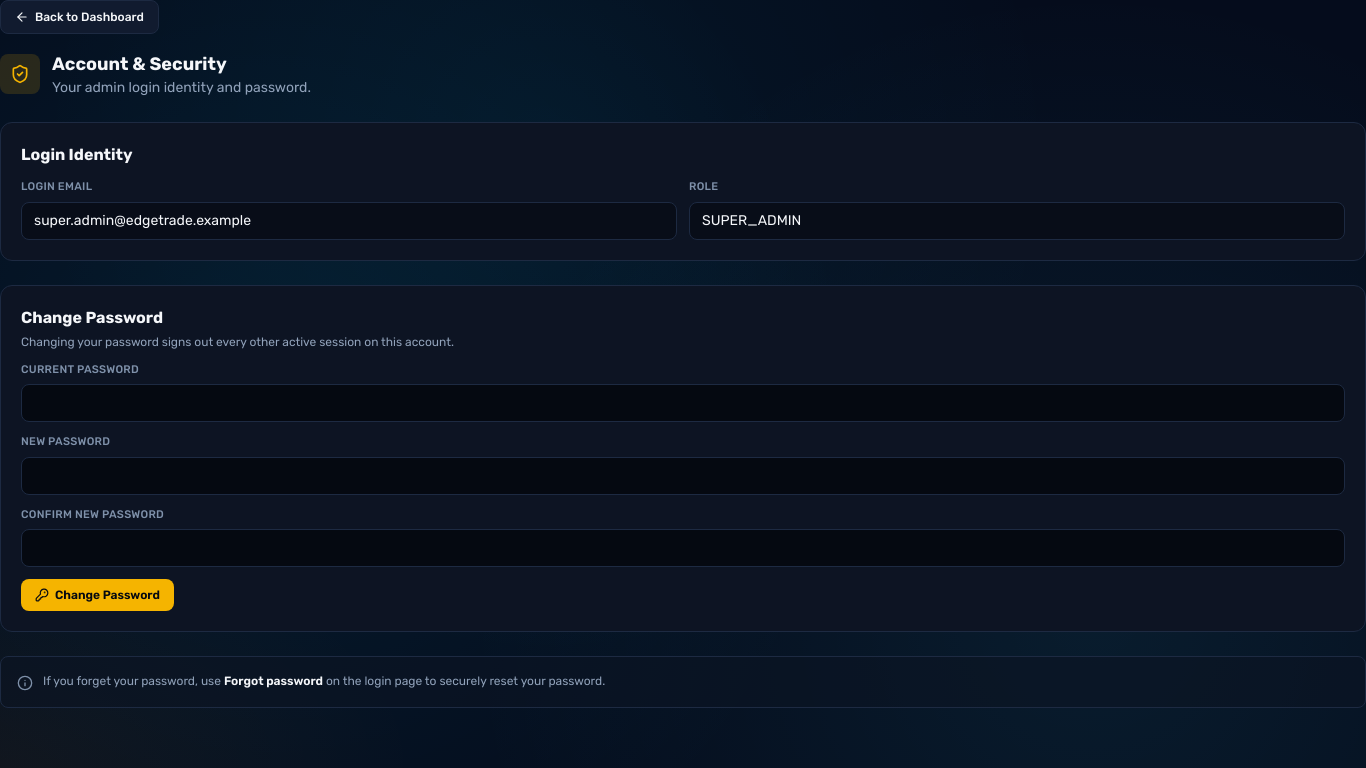
AdminAccountPage › submits current and new password only — never a target user id — via the existing change-password endpoint
Type "oldpassword1" into the password field labelled "Current Password" at (683, 403), box left=21, top=384, right=1345, bottom=422
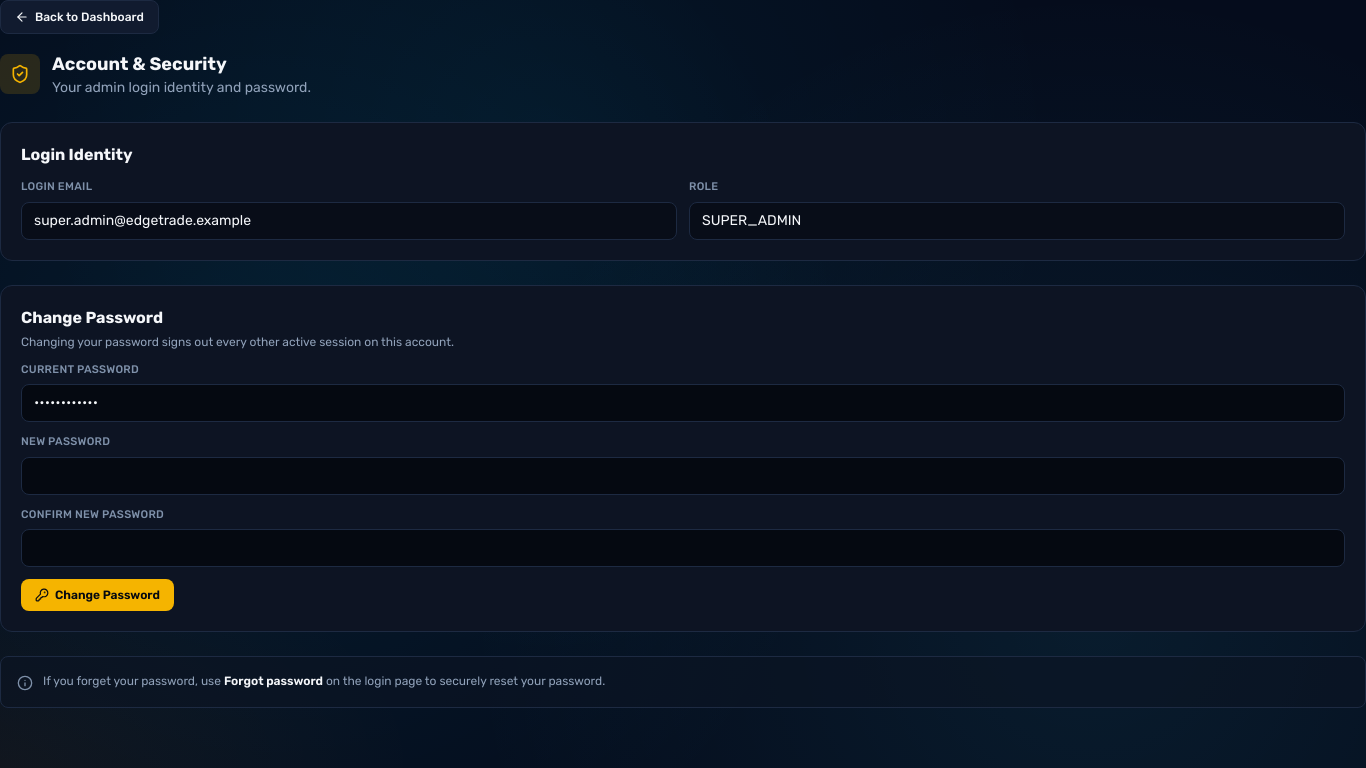
Type "newpassword123" into the password field labelled "New Password" at (683, 476), box left=21, top=456, right=1345, bottom=494
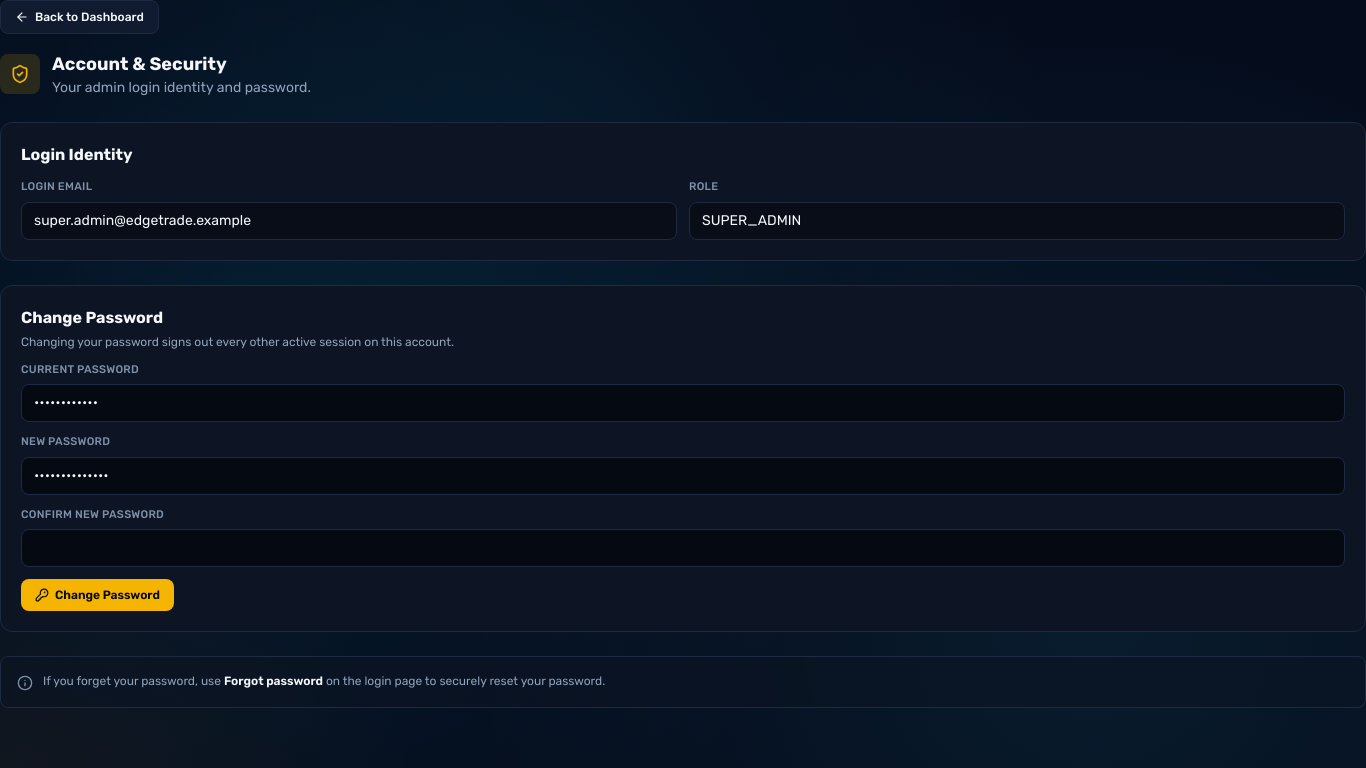
Type "newpassword123" into the password field labelled "Confirm New Password" at (683, 548), box left=21, top=529, right=1345, bottom=567
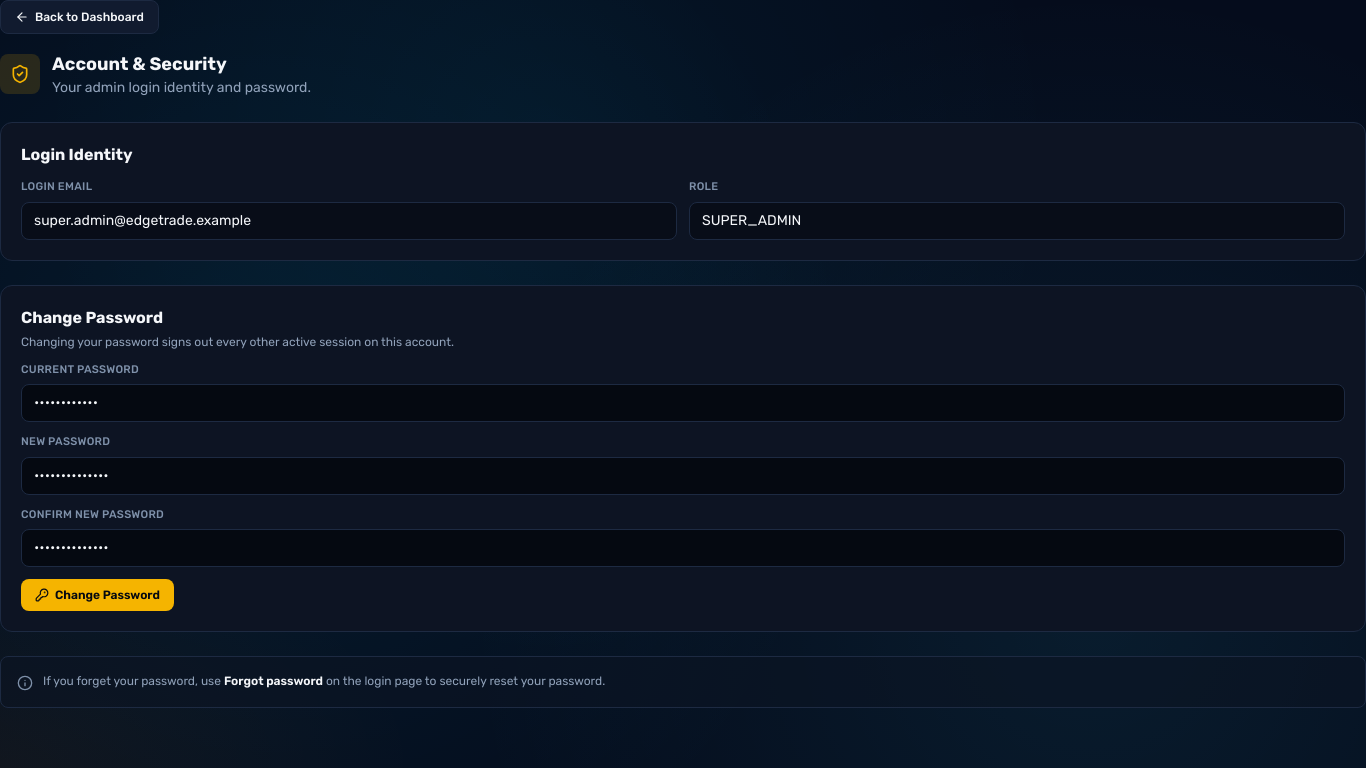
Click the button "Change Password" at (98, 595), box left=21, top=579, right=174, bottom=611
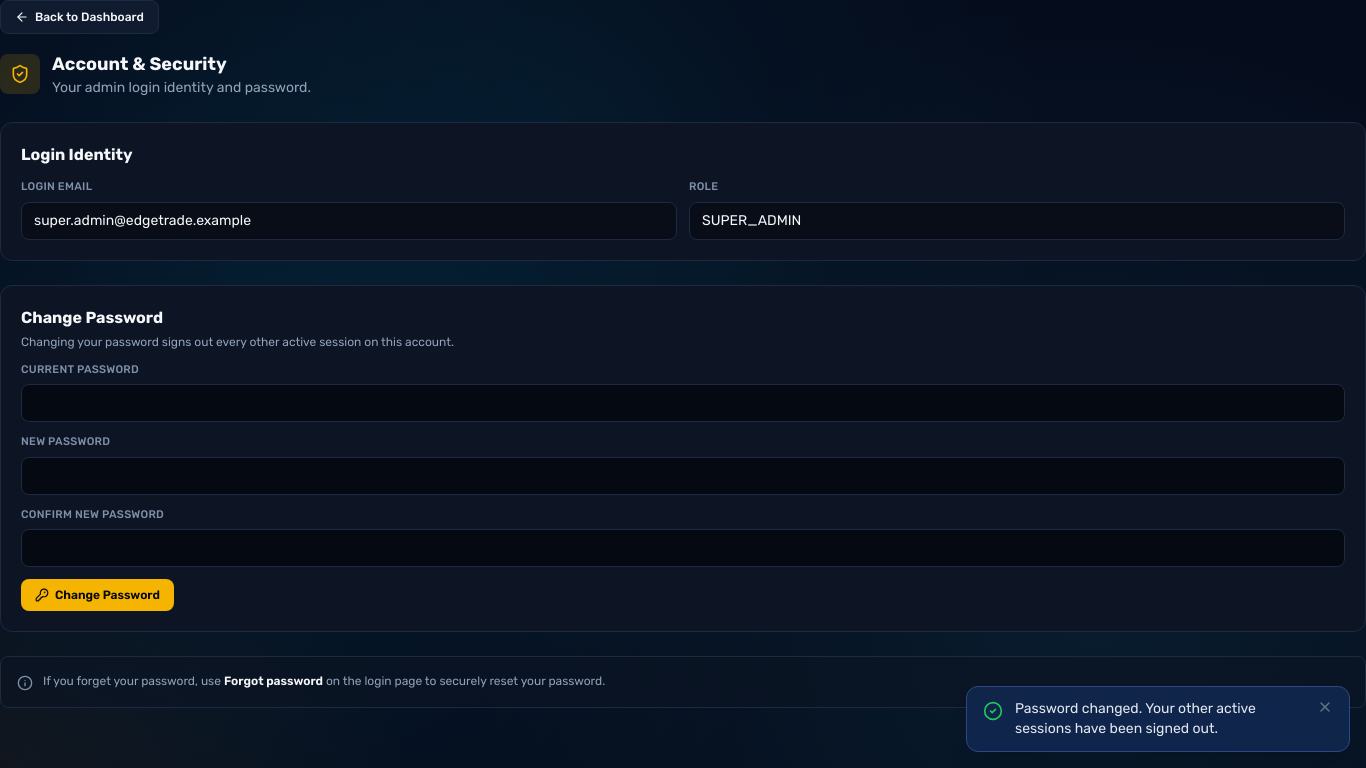
Now the text "other active sessions have been signed out" is shown, box left=1015, top=700, right=1256, bottom=737
